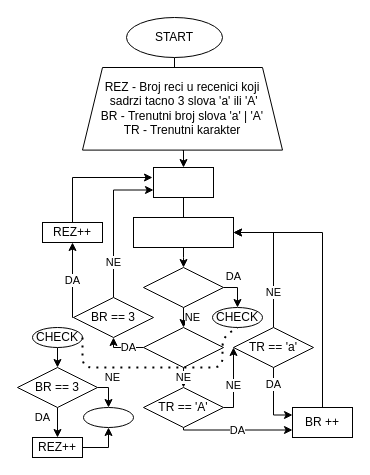
The diagram is 370 pixels wide and 475 high, and some of its shapes have lost their labels. Each missing label, with the centre of its shape:
"BR = 0" goes at pixel 183 182.
"END" goes at pixel 108 417.
"TR = TR_NEXT" goes at pixel 183 232.
"TR == ' '" goes at pixel 183 347.
"TR == '.'" goes at pixel 183 287.
